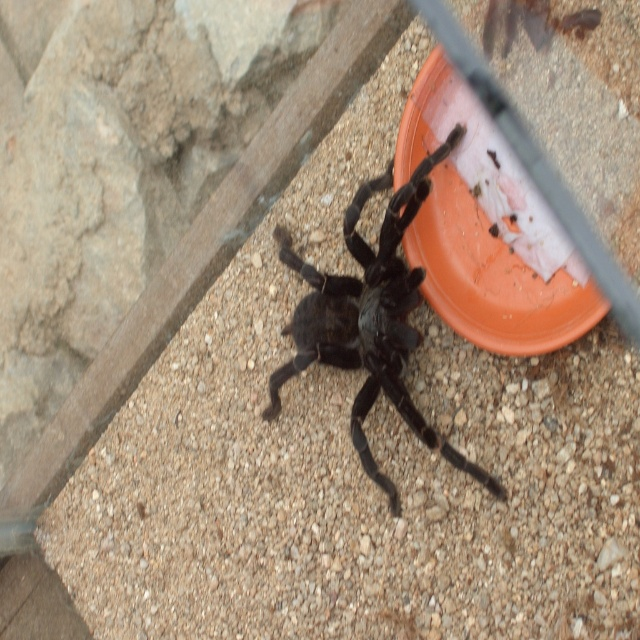Spider: (259, 119, 509, 520)
